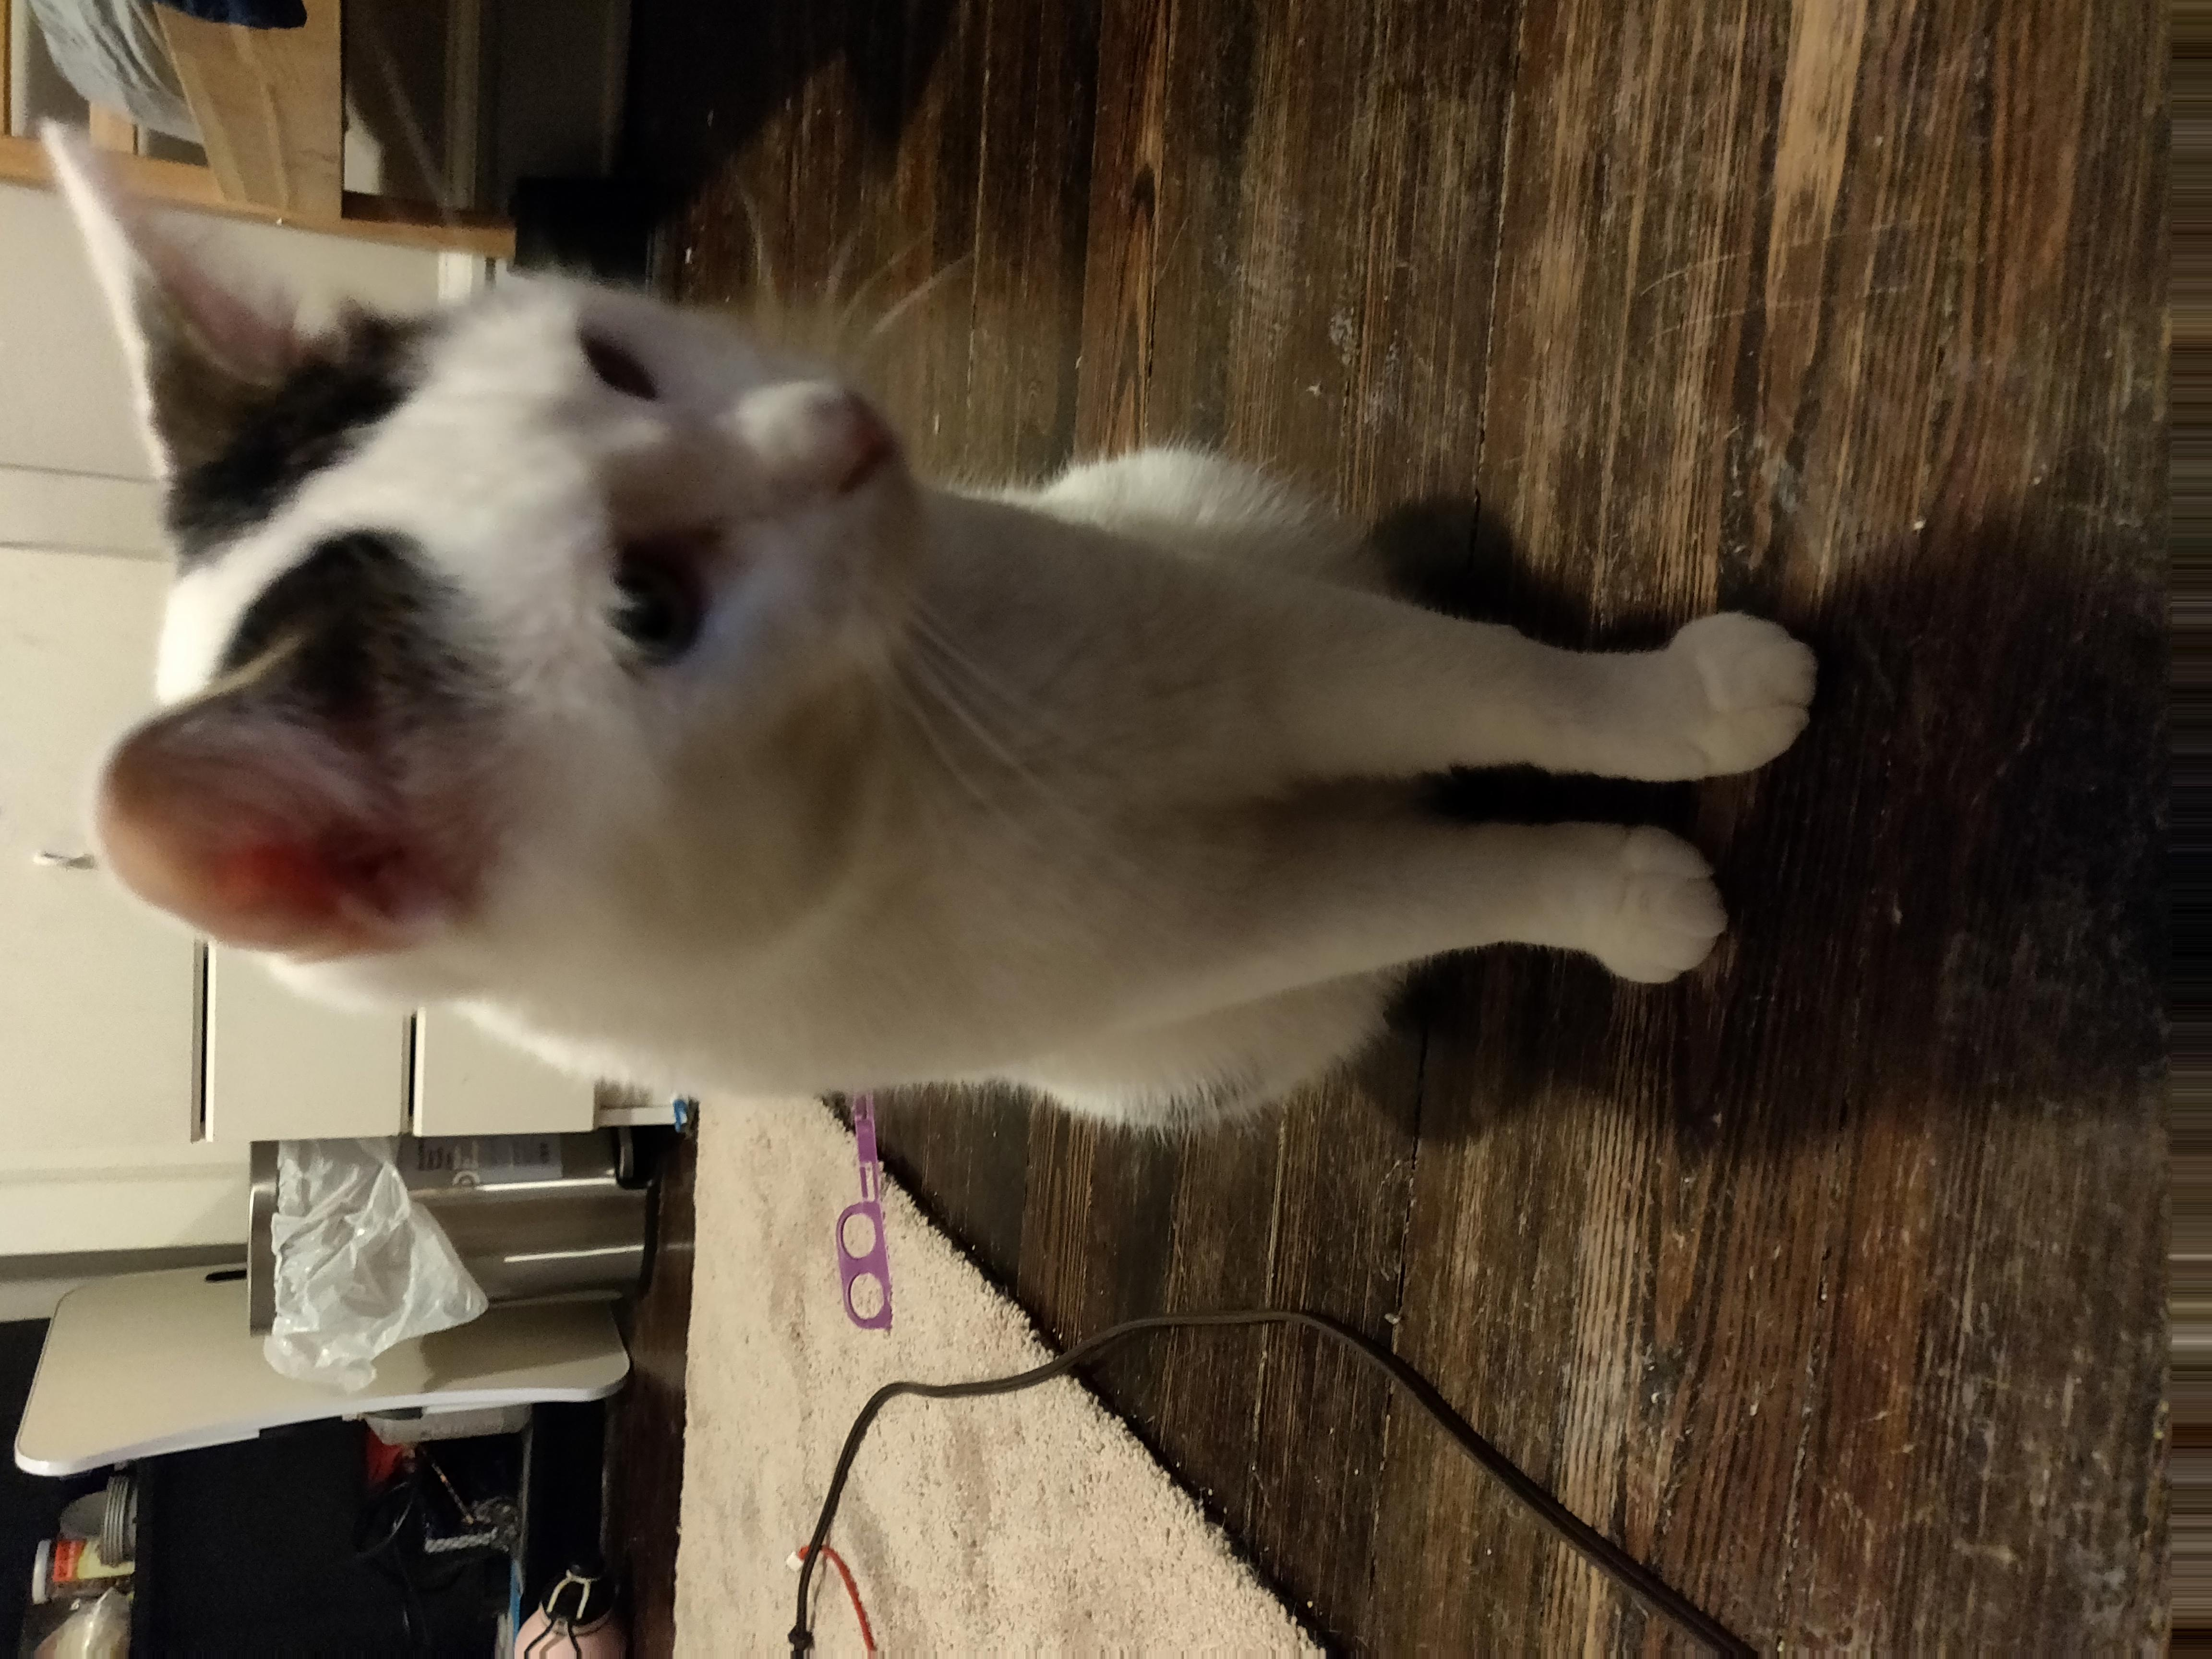cat: (56, 116, 1819, 1119)
